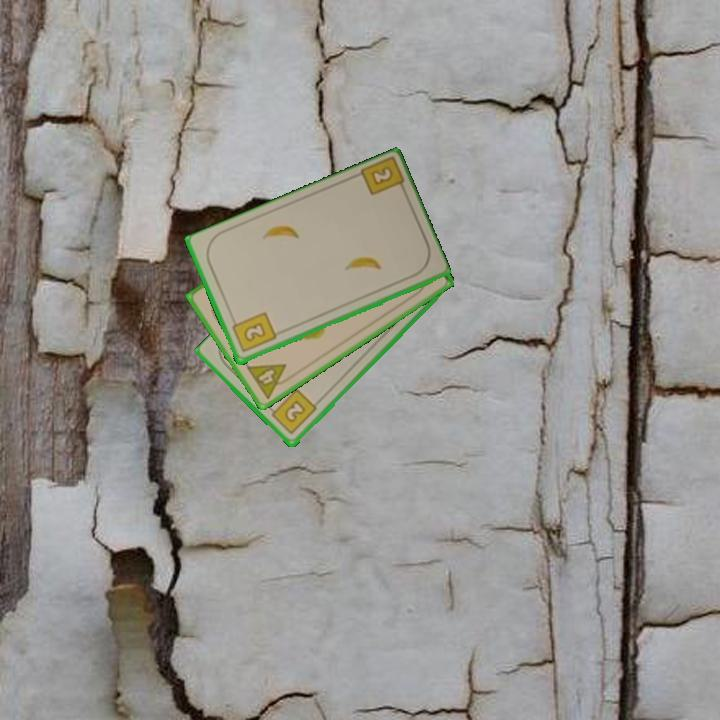2b: (265, 386, 320, 437), (228, 309, 279, 355), (356, 155, 409, 199)
4p: (243, 360, 296, 402)
